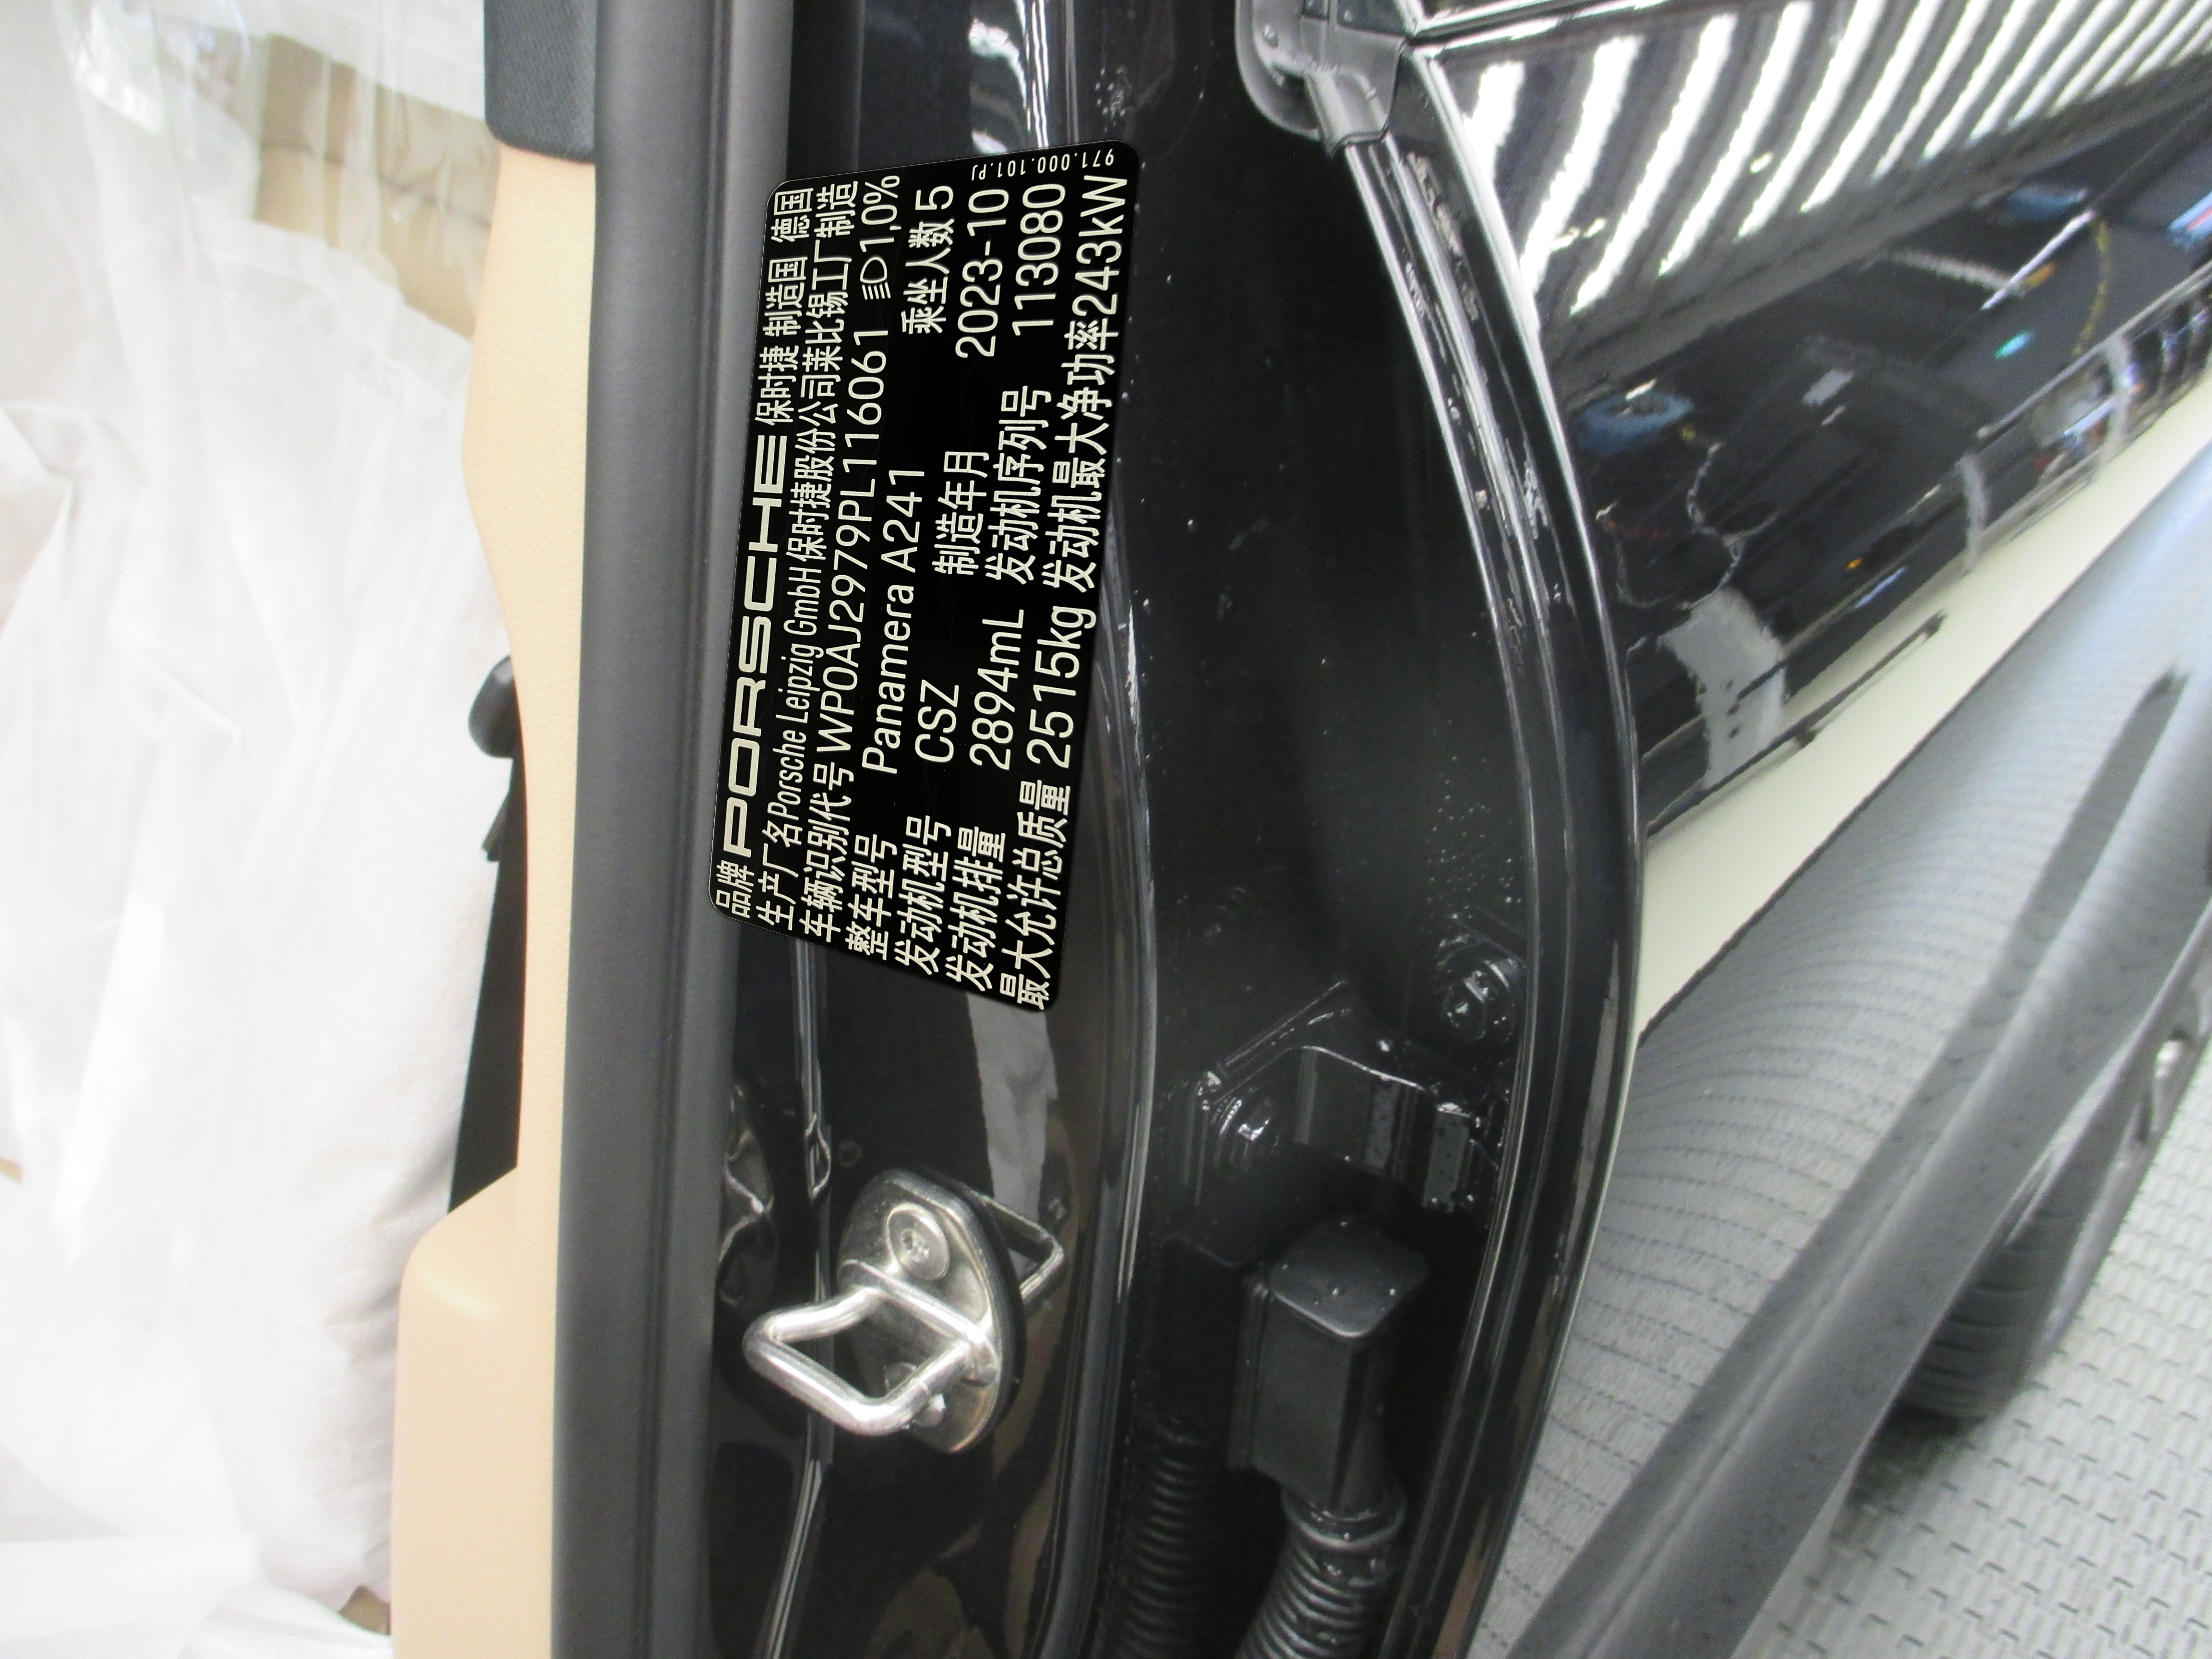Typlabel-China: (709, 139, 1139, 1012)
